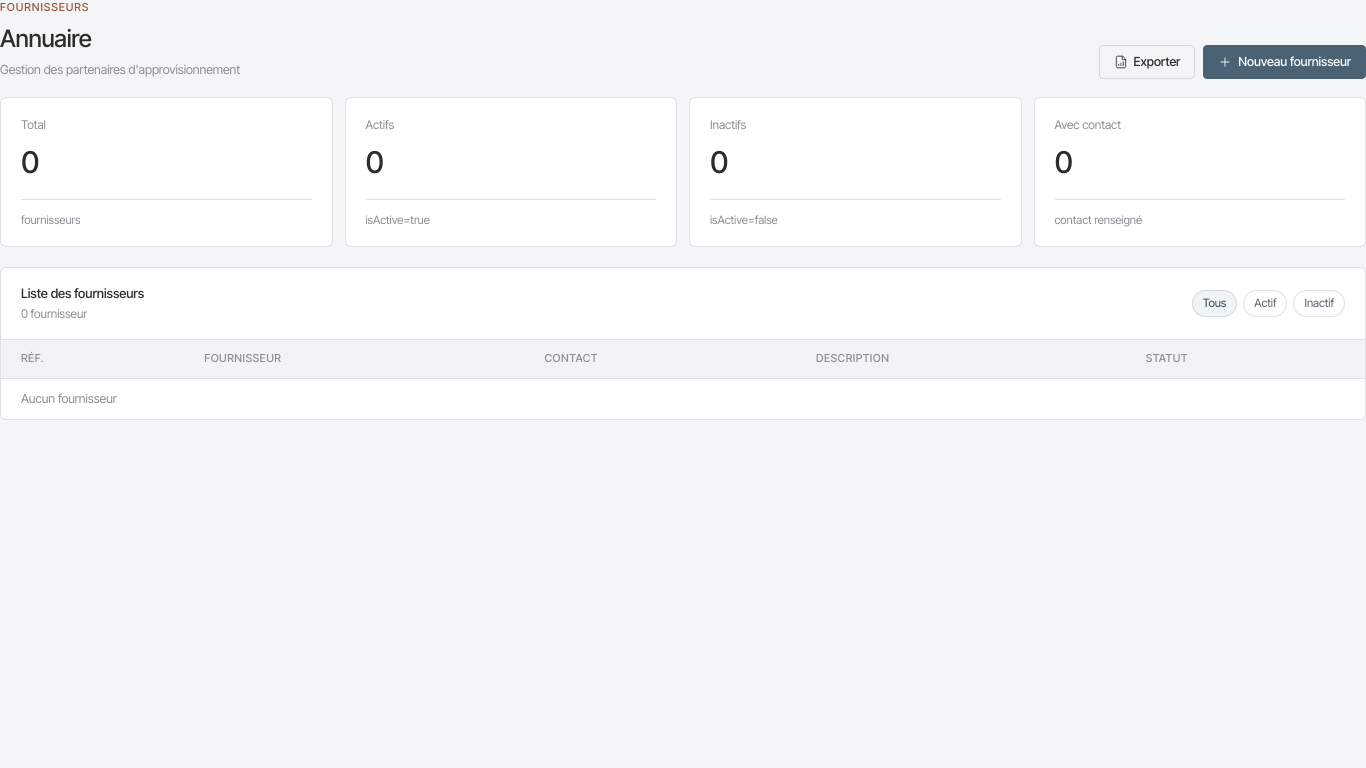
Test: ErpSuppliers › le clic sur "Nouveau fournisseur" ouvre la modale de création
This screenshot has width=1366, height=768.
Step 1. Click the button "Nouveau fournisseur" → [1285, 62], box [1203,45,1365,79]
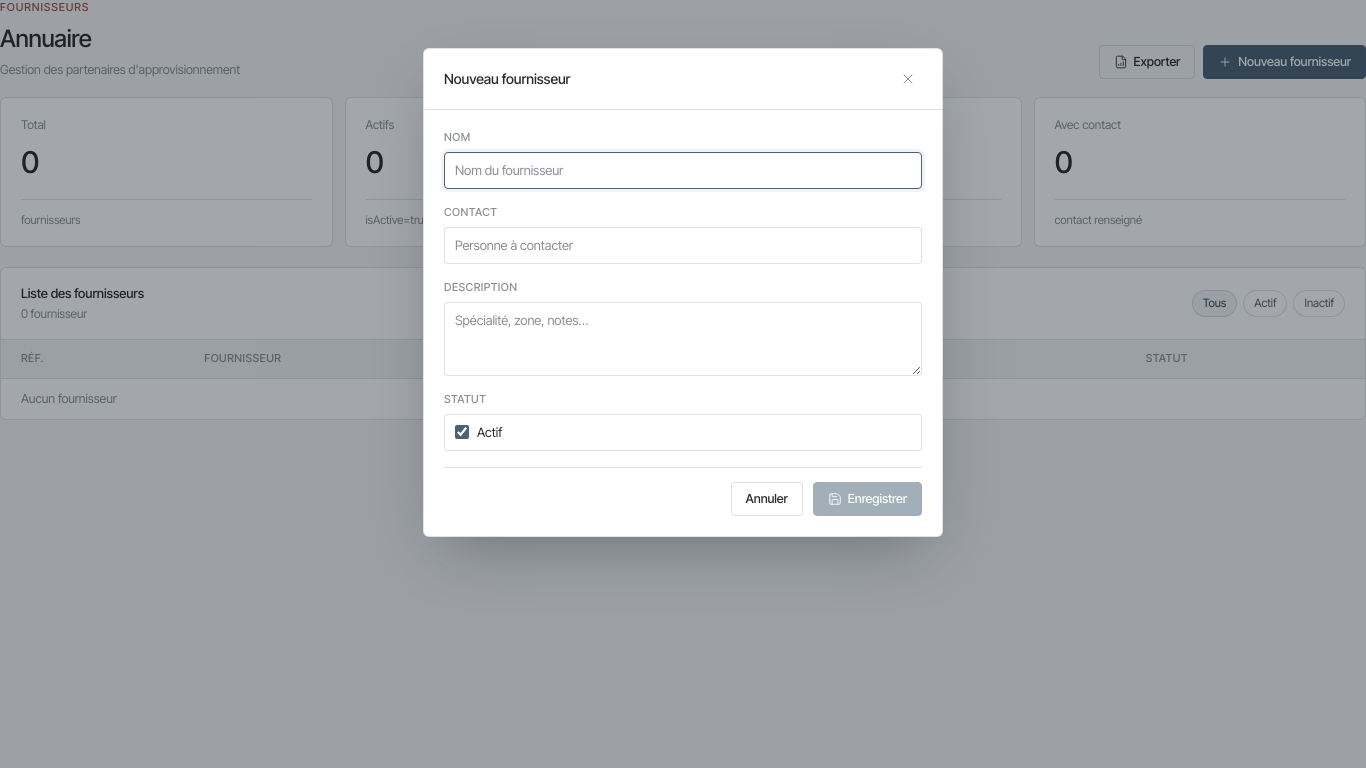
Now the dialog with class "modal" is shown, box [423,48,943,537]
Now the text with class "modal-title" reads "Nouveau fournisseur", box [444,70,570,87]
